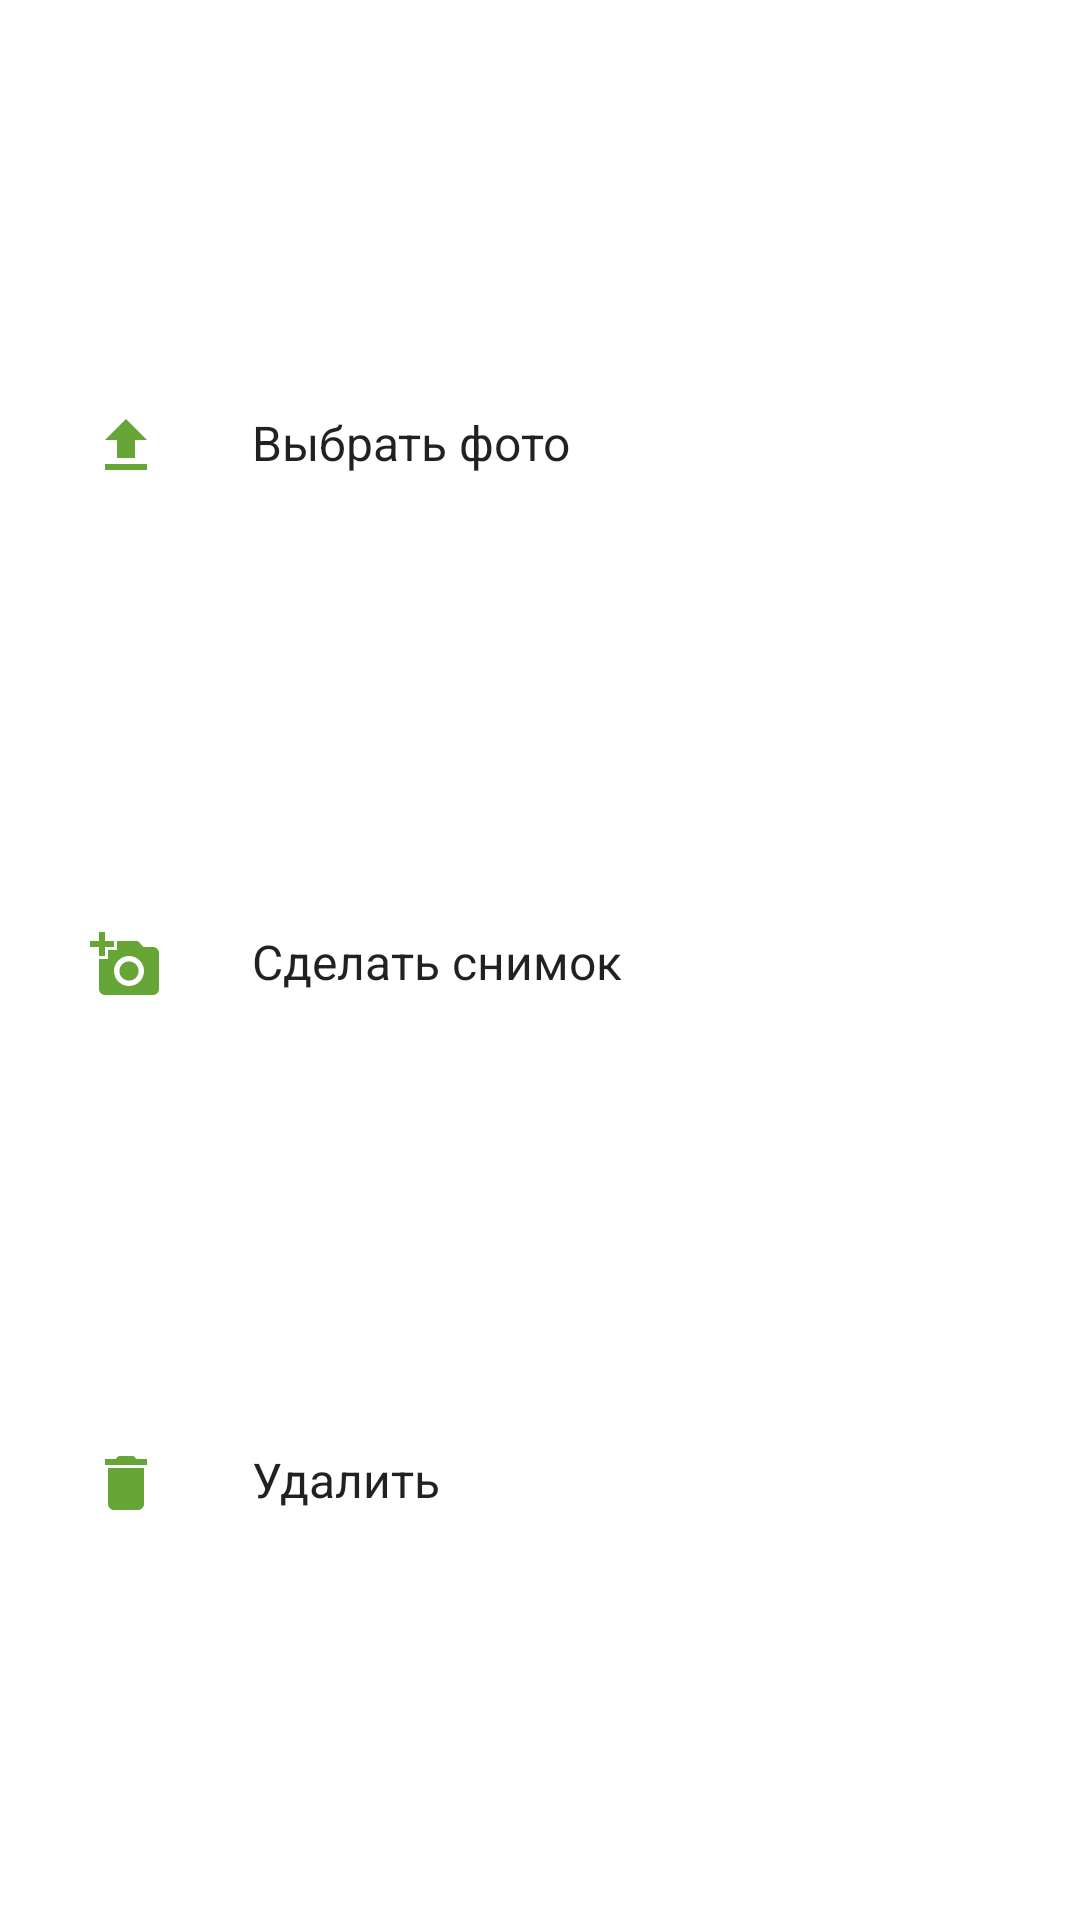

Where icons sit on this 1080×1920 app screen, as (x1, y1, x2, y2):
delete: (105, 1456, 147, 1510)
photo: (90, 932, 159, 995)
upload: (105, 419, 147, 470)
